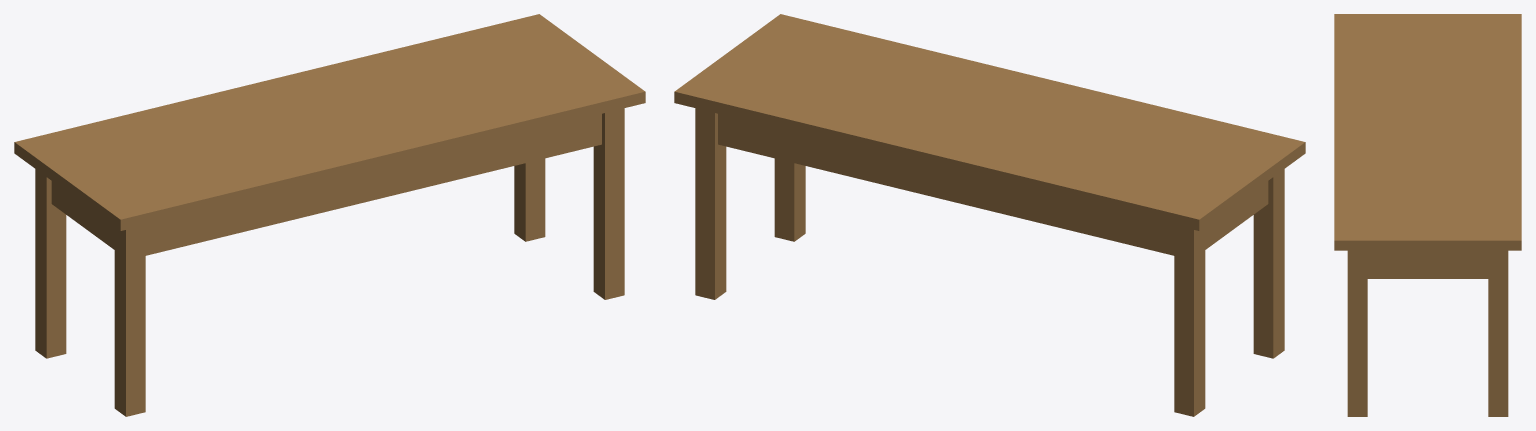
File: HIN-OBN-std.glb
The picture shows the model from 3 angles, left to right: view 1: azimuth 30°, elevation 25°; view 2: azimuth 150°, elevation 25°; view 3: azimuth 270°, elevation 25°; orthographic projection. The views are drawn at different scales.
Parts seen in each view (by area): view 1: top:pbr, apron-f:pbr, leg-fl:pbr, leg-fr:pbr, leg-bl:pbr, leg-br:pbr, apron-l:pbr; view 2: top:pbr, apron-b:pbr, leg-bl:pbr, leg-br:pbr, leg-fl:pbr, leg-fr:pbr, apron-l:pbr; view 3: top:pbr, apron-r:pbr, leg-fr:pbr, leg-br:pbr.
Boxes of the visible parts, <box> form: top:pbr: <box>14,14,645,230</box>; apron-f:pbr: <box>145,113,601,255</box>; leg-fl:pbr: <box>114,225,145,416</box>; leg-fr:pbr: <box>593,108,624,299</box>; leg-bl:pbr: <box>35,169,66,358</box>; leg-br:pbr: <box>514,158,545,241</box>; apron-l:pbr: <box>51,181,114,249</box>; top:pbr: <box>674,14,1305,230</box>; apron-b:pbr: <box>718,113,1174,255</box>; leg-bl:pbr: <box>1174,225,1205,416</box>; leg-br:pbr: <box>695,108,726,299</box>; leg-fl:pbr: <box>1253,169,1284,358</box>; leg-fr:pbr: <box>774,158,805,241</box>; apron-l:pbr: <box>1205,181,1268,249</box>; top:pbr: <box>1334,14,1521,250</box>; apron-r:pbr: <box>1367,250,1488,278</box>; leg-fr:pbr: <box>1347,250,1367,416</box>; leg-br:pbr: <box>1488,250,1508,416</box>.
Size of the model in its own units: 1.2 by 0.45 by 0.42.
